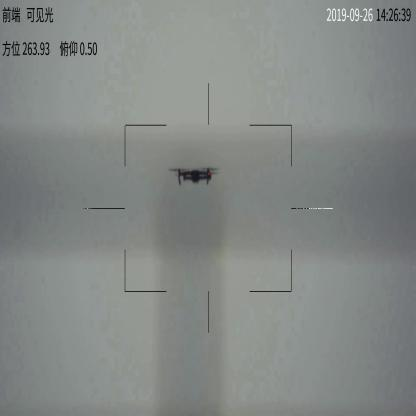uav: (175, 165, 221, 188)
